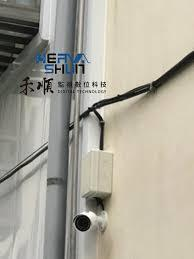Monitor: (61, 170, 131, 245)
